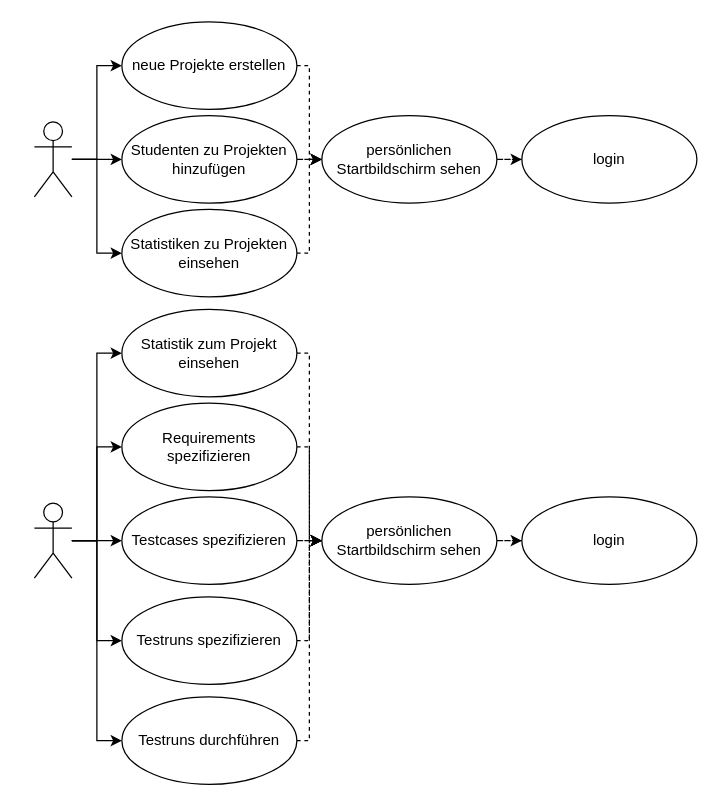
Image size: 719x806. Some labels were removed from this diagram. The shapes that lost their labels are listed below. From the top down, each one's centre as x and y in pixels, then its label:
the point at 52,159: Professor
the point at 52,540: Student
